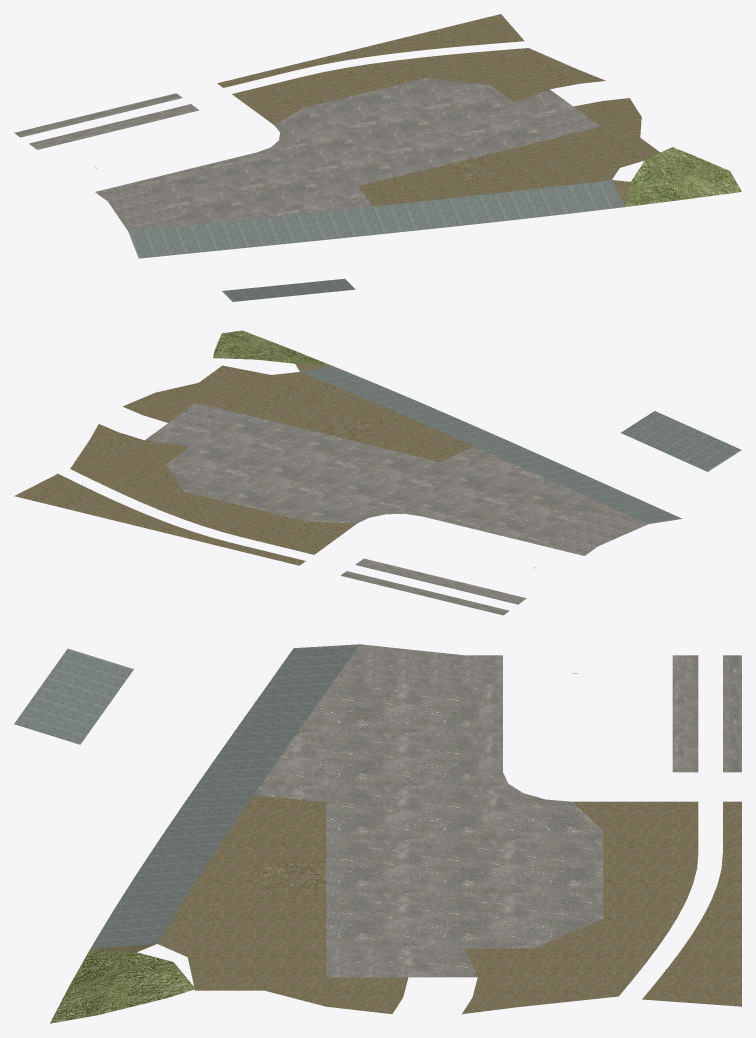
Rendered from vegasnland02.obj.
3 views of the same model, one above another, from view 1: azimuth 30°, elevation 25°; view 2: azimuth 150°, elevation 25°; view 3: azimuth 270°, elevation 25° (orthographic). The views are drawn at different scales.
Parts seen in each view (by area): view 1: vegasNland02; view 2: vegasNland02; view 3: vegasNland02.
Part boxes in pixels (x1,y1,x2,y2): vegasNland02: (14, 14, 741, 301); vegasNland02: (14, 330, 741, 615); vegasNland02: (14, 644, 741, 1023).
Size of the model in its own units: 259 by 7.11 by 210.
Materials: 4 (4 with a texture image).
